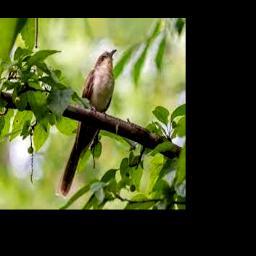Cuckoo: (55, 49, 117, 198)
